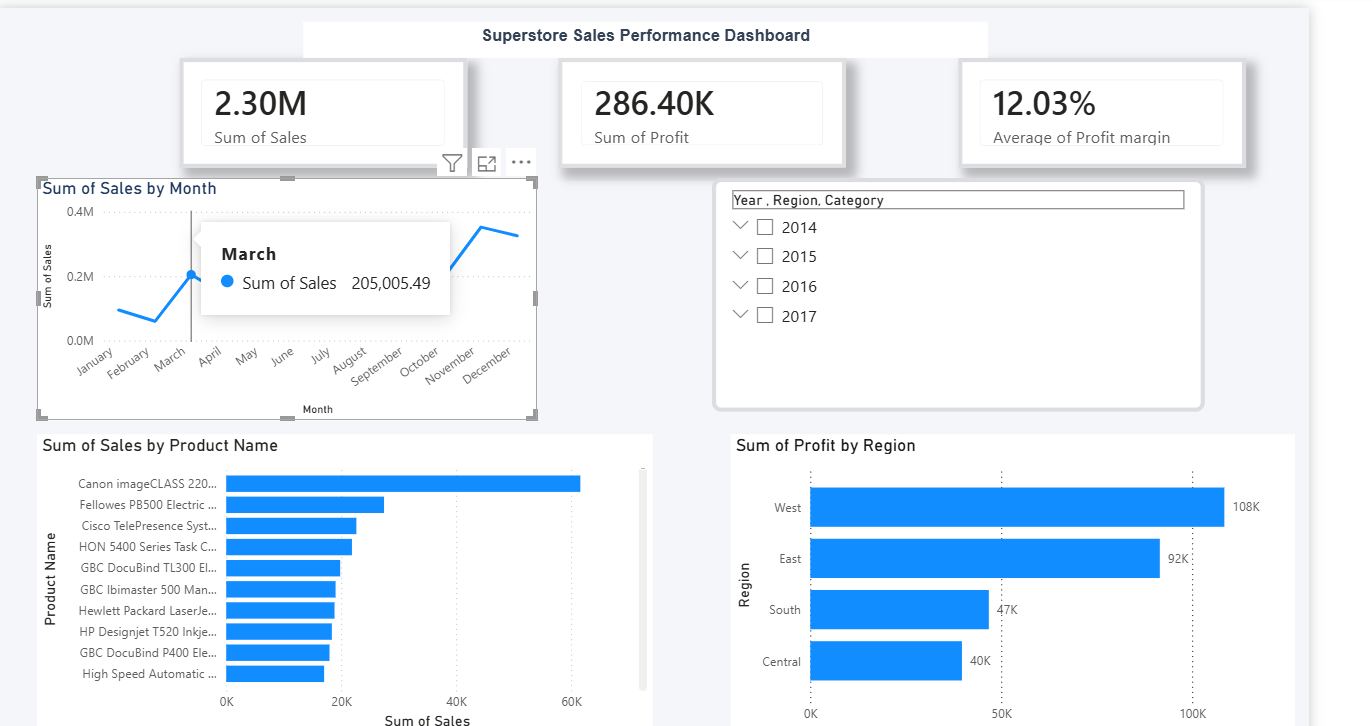

The page's visual inventory and layout, read from the dashboard file:
{"tool":"powerbi","page":{"name":"Page 1","canvas":[1280,720],"ordinal":0},"visuals":[{"type":"cardVisual","fields":{"Data":["Sum(Table1.Sales)"]},"box":[178,48.8,280.5,107.3],"z":0},{"type":"cardVisual","fields":{"Data":["Sum(Table1.Profit)"]},"box":[547.6,48.8,280.5,107.3],"z":1000},{"type":"cardVisual","fields":{"Data":["Avg(Table1.Profit margin)"]},"box":[937.8,48.8,280.5,107.3],"z":2000},{"type":"lineChart","fields":{"Category":["Table1.Month"],"Y":["Sum(Table1.Sales)"]},"box":[39,165.9,487.8,236.6],"z":3000},{"type":"clusteredBarChart","fields":{"Category":["Table1.Product Name"],"Y":["Sum(Table1.Sales)"]},"box":[39.1,415.8,600.4,293.5],"z":4000},{"type":"clusteredBarChart","fields":{"Category":["Table1.Region"],"Y":["Sum(Table1.Profit)"]},"box":[715.9,415.9,550,304.9],"z":5000},{"type":"slicer","fields":{"Values":["Table1.Year ","Table1.Region","Table1.Category"]},"box":[697.6,165.9,480.5,228],"z":6000},{"type":"textbox","box":[298.8,13.4,668.3,35.4],"z":7000}]}

Visuals, with their boxes on the page's 1280x720 design canvas (x1, y1, x2, y2). These are canvas units, not pixel positions in the 1372x726 screenshot, which may show the page scaled, cropped or inside an application window:
cardVisual - Sum(Table1.Sales): left=178, top=49, right=458, bottom=156
cardVisual - Sum(Table1.Profit): left=548, top=49, right=828, bottom=156
cardVisual - Avg(Table1.Profit margin): left=938, top=49, right=1218, bottom=156
lineChart - Table1.Month x Sum(Table1.Sales): left=39, top=166, right=527, bottom=402
clusteredBarChart - Table1.Product Name x Sum(Table1.Sales): left=39, top=416, right=640, bottom=709
clusteredBarChart - Table1.Region x Sum(Table1.Profit): left=716, top=416, right=1266, bottom=721
slicer - Table1.Year  x Table1.Region: left=698, top=166, right=1178, bottom=394
textbox: left=299, top=13, right=967, bottom=49
